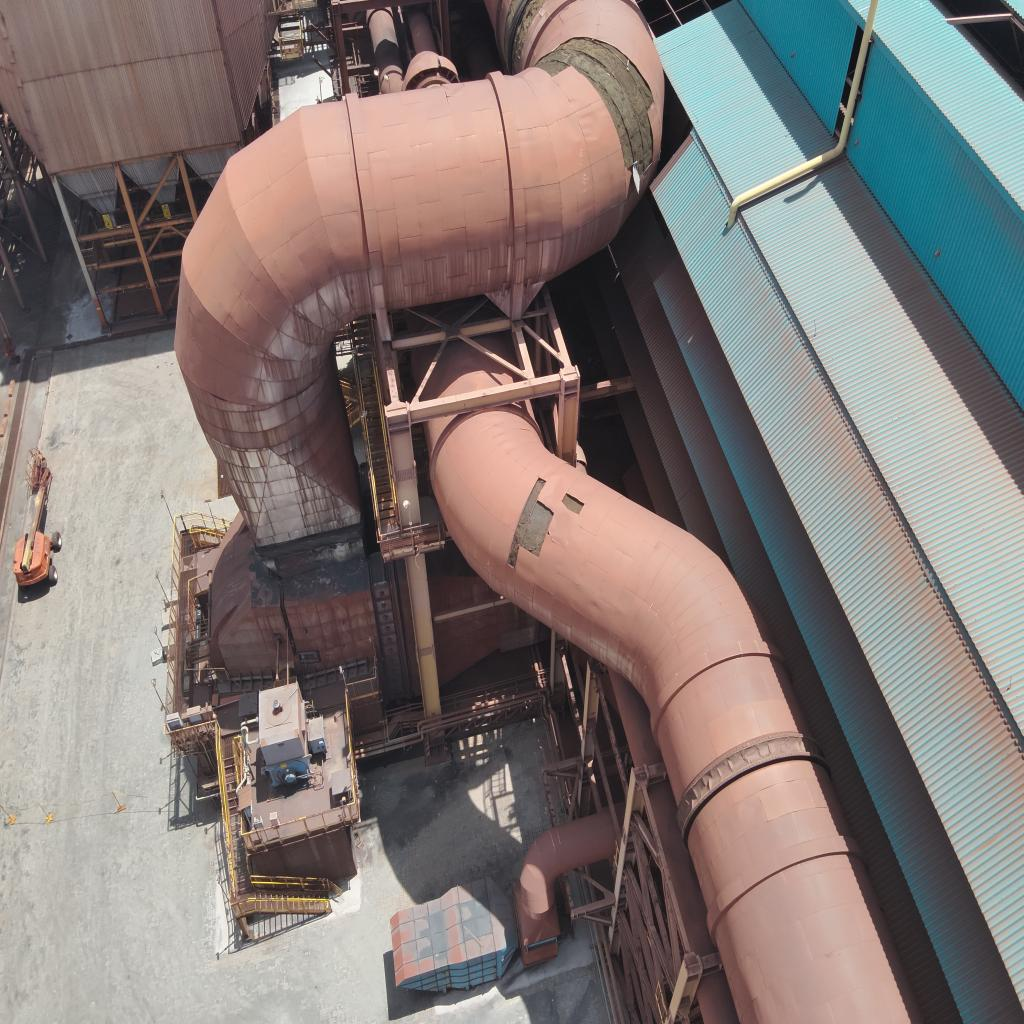Failures: (526, 43, 666, 196), (499, 464, 589, 579), (508, 2, 536, 68)
